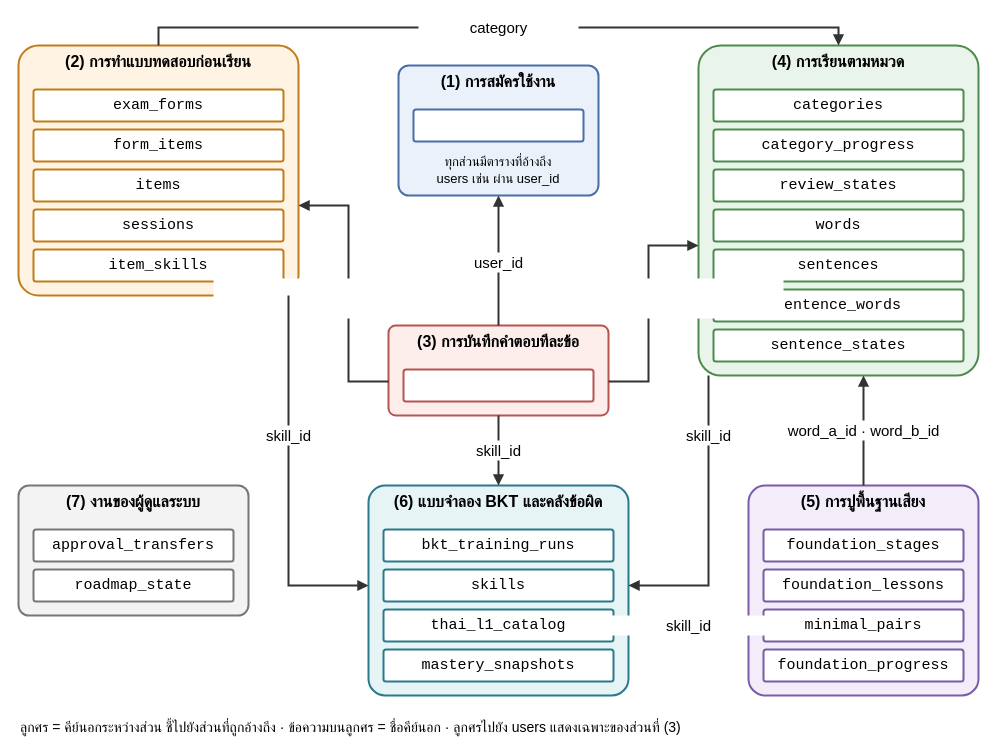
The diagram is 996 pixels wide and 754 high, and some of its shapes have lost their labels. Here are the shapes that lost their labels. From the top down, the centre of each, then its label:
point (498, 125): users
point (348, 298): session_id item_id
point (648, 298): word_id sentence_id
point (498, 385): attempts
